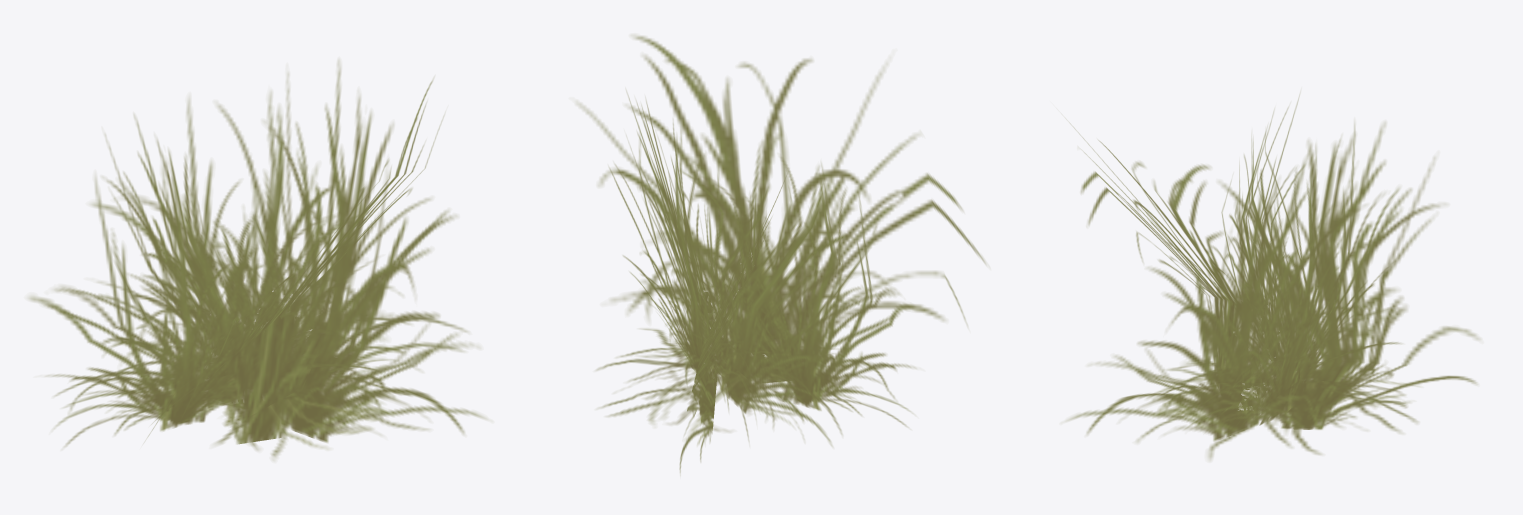
File: ichu_08.glb
The picture shows the model from 3 angles, left to right: view 1: azimuth 30°, elevation 25°; view 2: azimuth 150°, elevation 25°; view 3: azimuth 270°, elevation 25°; orthographic projection. The views are drawn at different scales.
Visible parts, largest first — view 1: Ichu; view 2: Ichu; view 3: Ichu.
Boxes of the visible parts, left/top/right/bottom form: Ichu: left=28, top=60, right=487, bottom=460; Ichu: left=577, top=35, right=986, bottom=473; Ichu: left=1066, top=95, right=1480, bottom=460.
Size of the model in its own units: 0.3301 by 0.29 by 0.331.
1 material, 1 textured.
